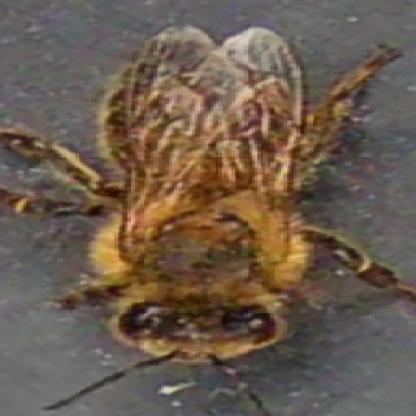bee: (78, 37, 327, 352)
